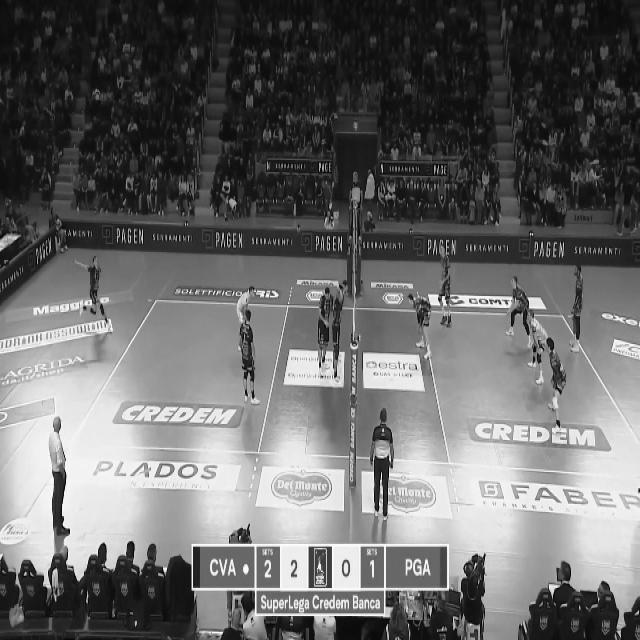volleyball court: (70, 296, 638, 480)
